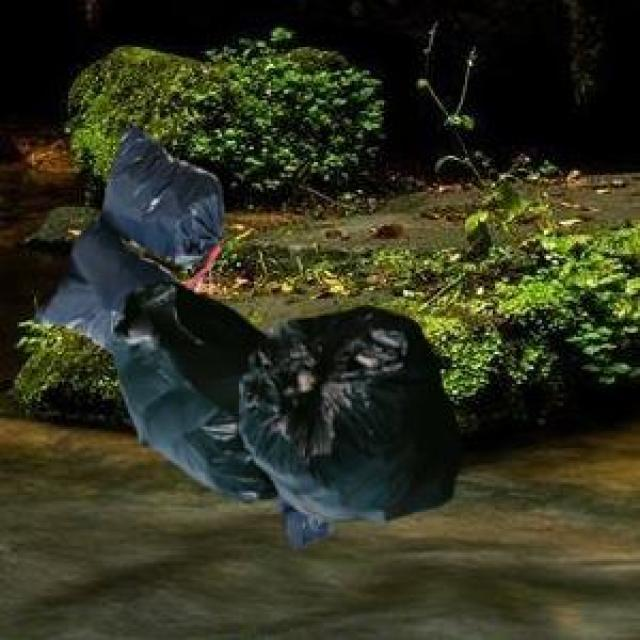Vinyl: (38, 130, 459, 541)
